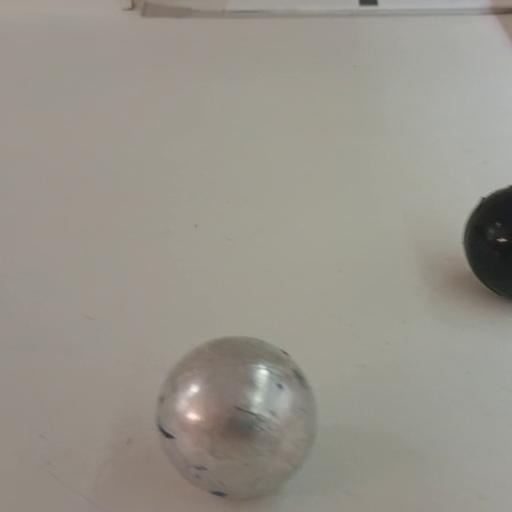alive: (152, 334, 323, 501)
dead: (462, 181, 512, 301)
